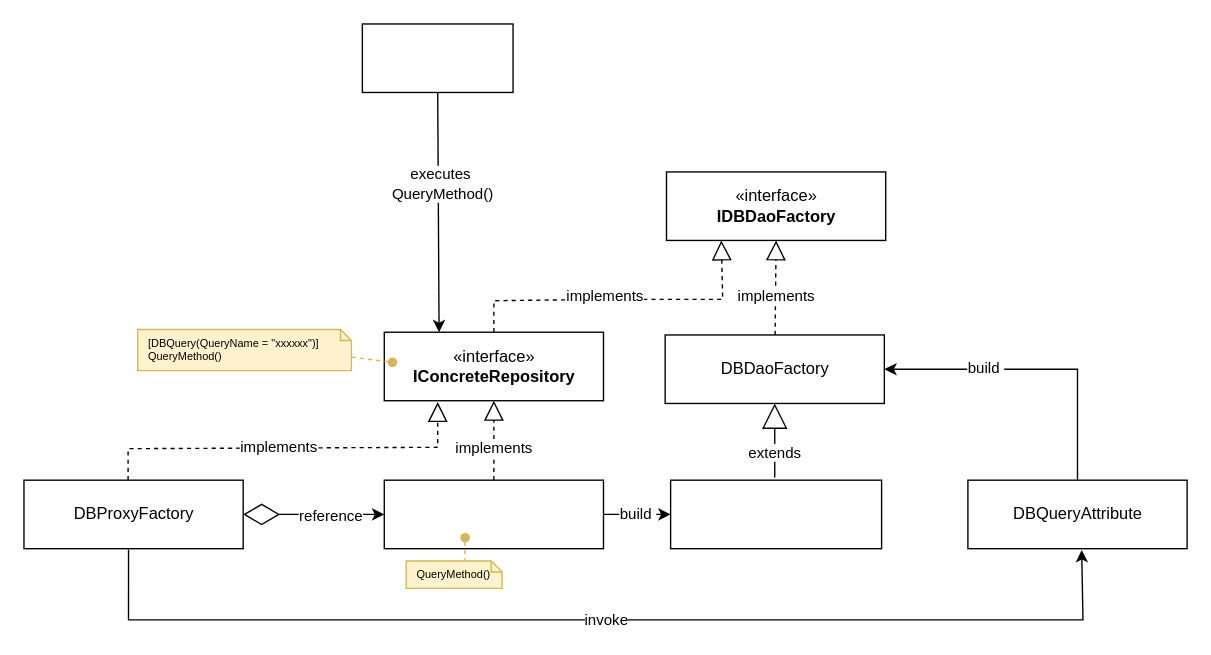
Image size: 1211x655. Some labels were removed from this diagram. The shapes that lost their labels are listed below. From the top down, each one's box as (x1, y1, x2, y2) in pixels, then its label:
(361, 23, 513, 92): Service
(383, 479, 603, 549): ConcreteRepository
(669, 479, 882, 549): DBDaoFactorySqlServer
